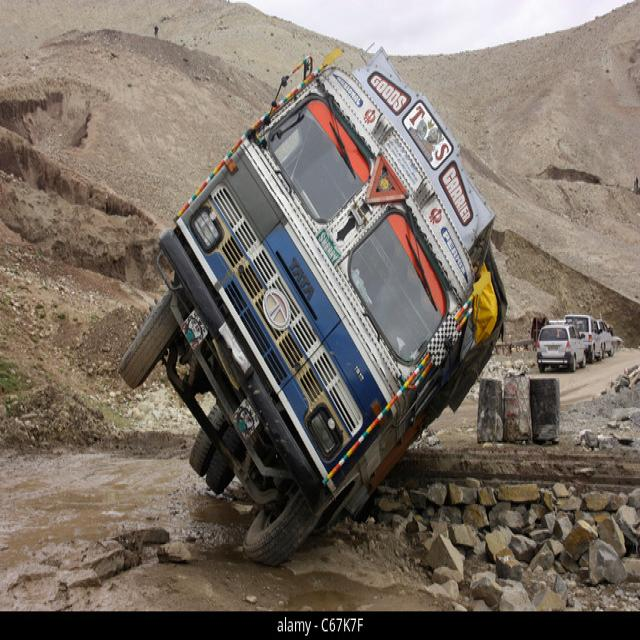truck: (120, 52, 505, 565)
